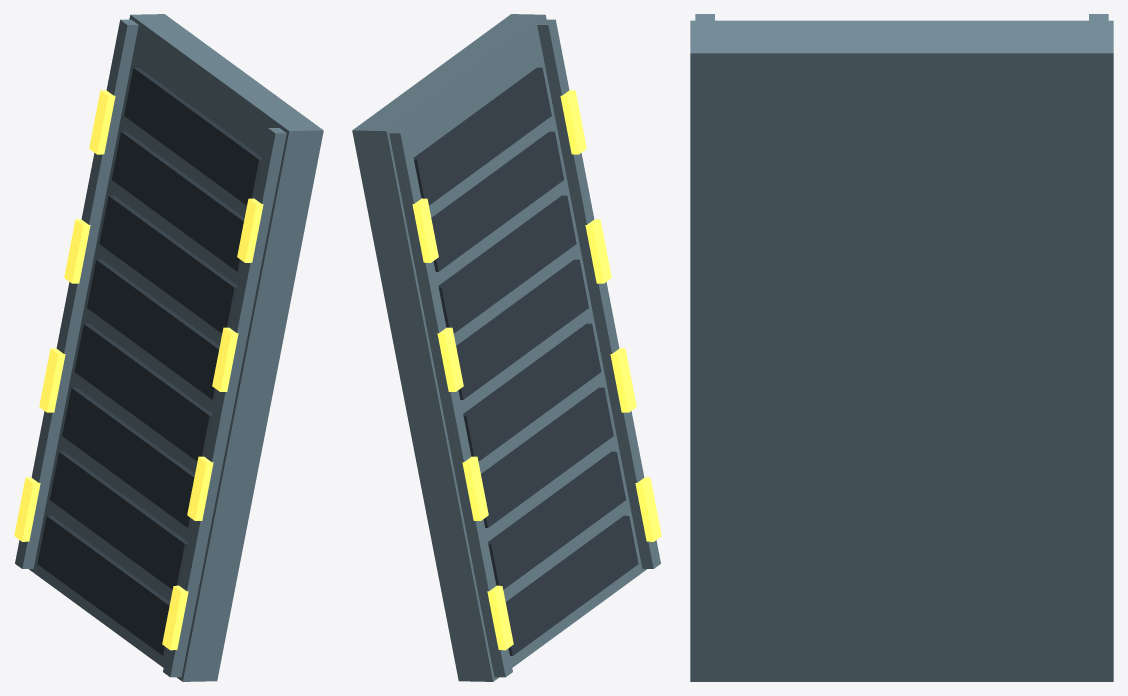
Rendered from voo-planetario.glb.
3 views of the same model, side by side, from view 1: azimuth 30°, elevation 25°; view 2: azimuth 150°, elevation 25°; view 3: azimuth 270°, elevation 25° (orthographic). The views are drawn at different scales.
Parts seen in each view (by area): view 1: Estrutura da rampa, Guia lateral, Guia lateral.001, Degrau antiderrapante.001, Degrau antiderrapante.003, Degrau antiderrapante.005, Degrau antiderrapante.007, Degrau antiderrapante.006, Degrau antiderrapante.004, Degrau antiderrapante.002, Degrau antiderrapante, Baliza.001 (+7 smaller); view 2: Estrutura da rampa, Guia lateral.001, Guia lateral, Degrau antiderrapante.001, Degrau antiderrapante.003, Degrau antiderrapante.005, Degrau antiderrapante.007, Degrau antiderrapante.006, Degrau antiderrapante.004, Degrau antiderrapante.002, Degrau antiderrapante, Baliza.005 (+7 smaller); view 3: Estrutura da rampa.
Part boxes in pixels (x1=…): Estrutura da rampa: x1=29, y1=14, x2=323, y2=681; Guia lateral: x1=15, y1=19, x2=138, y2=568; Guia lateral.001: x1=163, y1=128, x2=286, y2=677; Degrau antiderrapante.001: x1=50, y1=451, x2=187, y2=589; Degrau antiderrapante.003: x1=74, y1=323, x2=212, y2=461; Degrau antiderrapante.005: x1=99, y1=195, x2=237, y2=333; Degrau antiderrapante.007: x1=124, y1=67, x2=262, y2=205; Degrau antiderrapante.006: x1=111, y1=131, x2=244, y2=271; Degrau antiderrapante.004: x1=87, y1=259, x2=219, y2=399; Degrau antiderrapante.002: x1=62, y1=387, x2=194, y2=527; Degrau antiderrapante: x1=37, y1=515, x2=170, y2=655; Baliza.001: x1=39, y1=348, x2=65, y2=412; Estrutura da rampa: x1=352, y1=14, x2=646, y2=681; Guia lateral.001: x1=537, y1=19, x2=660, y2=568; Guia lateral: x1=389, y1=128, x2=512, y2=677; Degrau antiderrapante.001: x1=488, y1=451, x2=625, y2=589; Degrau antiderrapante.003: x1=463, y1=323, x2=601, y2=461; Degrau antiderrapante.005: x1=438, y1=195, x2=576, y2=333; Degrau antiderrapante.007: x1=413, y1=67, x2=551, y2=205; Degrau antiderrapante.006: x1=431, y1=131, x2=564, y2=271; Degrau antiderrapante.004: x1=456, y1=259, x2=588, y2=399; Degrau antiderrapante.002: x1=481, y1=387, x2=613, y2=527; Degrau antiderrapante: x1=505, y1=515, x2=638, y2=655; Baliza.005: x1=610, y1=348, x2=636, y2=412; Estrutura da rampa: x1=690, y1=20, x2=1113, y2=681.
Bounding box in the file's own units: 4.75 × 15.88 × 8.6.
